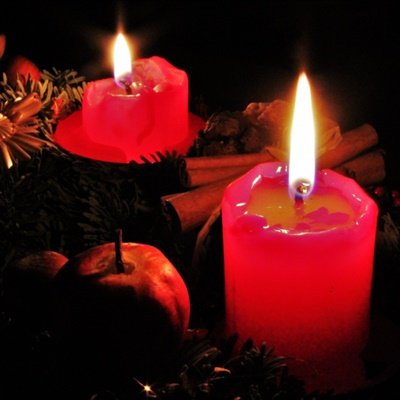Fire: (284, 72, 321, 199), (105, 30, 135, 82)
